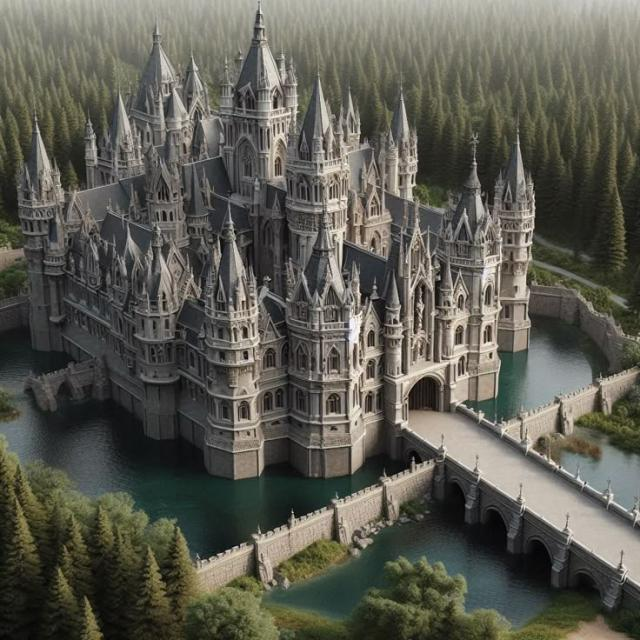castle: (31, 0, 549, 478)
